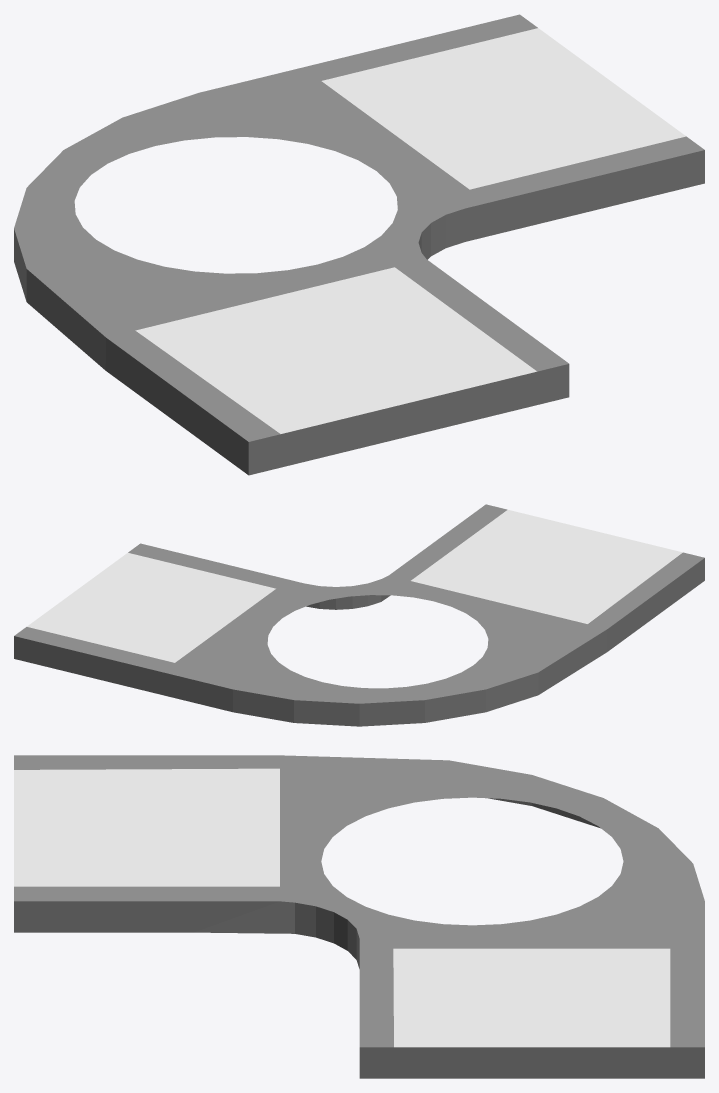
Rendered from touniquetchunk.fbx.
3 renders of one model, top to bottom at view 1: azimuth 30°, elevation 25°; view 2: azimuth 150°, elevation 25°; view 3: azimuth 270°, elevation 25°, orthographic. The views are drawn at different scales.
Visible parts, largest first — view 1: touniquetchunk; view 2: touniquetchunk; view 3: touniquetchunk.
Boxes of the visible parts, x1,y1,x2,y2 form: touniquetchunk: [14, 14, 704, 475]; touniquetchunk: [14, 504, 704, 726]; touniquetchunk: [14, 755, 704, 1078].
Bounding box in the file's own units: 100 × 100 × 4.99.
